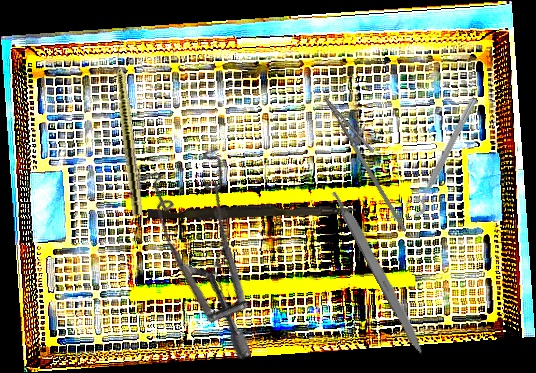Fixation Ring: (401, 91, 482, 220)
Handpiece: (110, 39, 146, 217)
Needle Holder: (308, 89, 432, 233)
Pusher: (147, 198, 357, 225)
Scalpel Handle: (330, 187, 429, 358)
Speculum: (95, 122, 340, 364)
